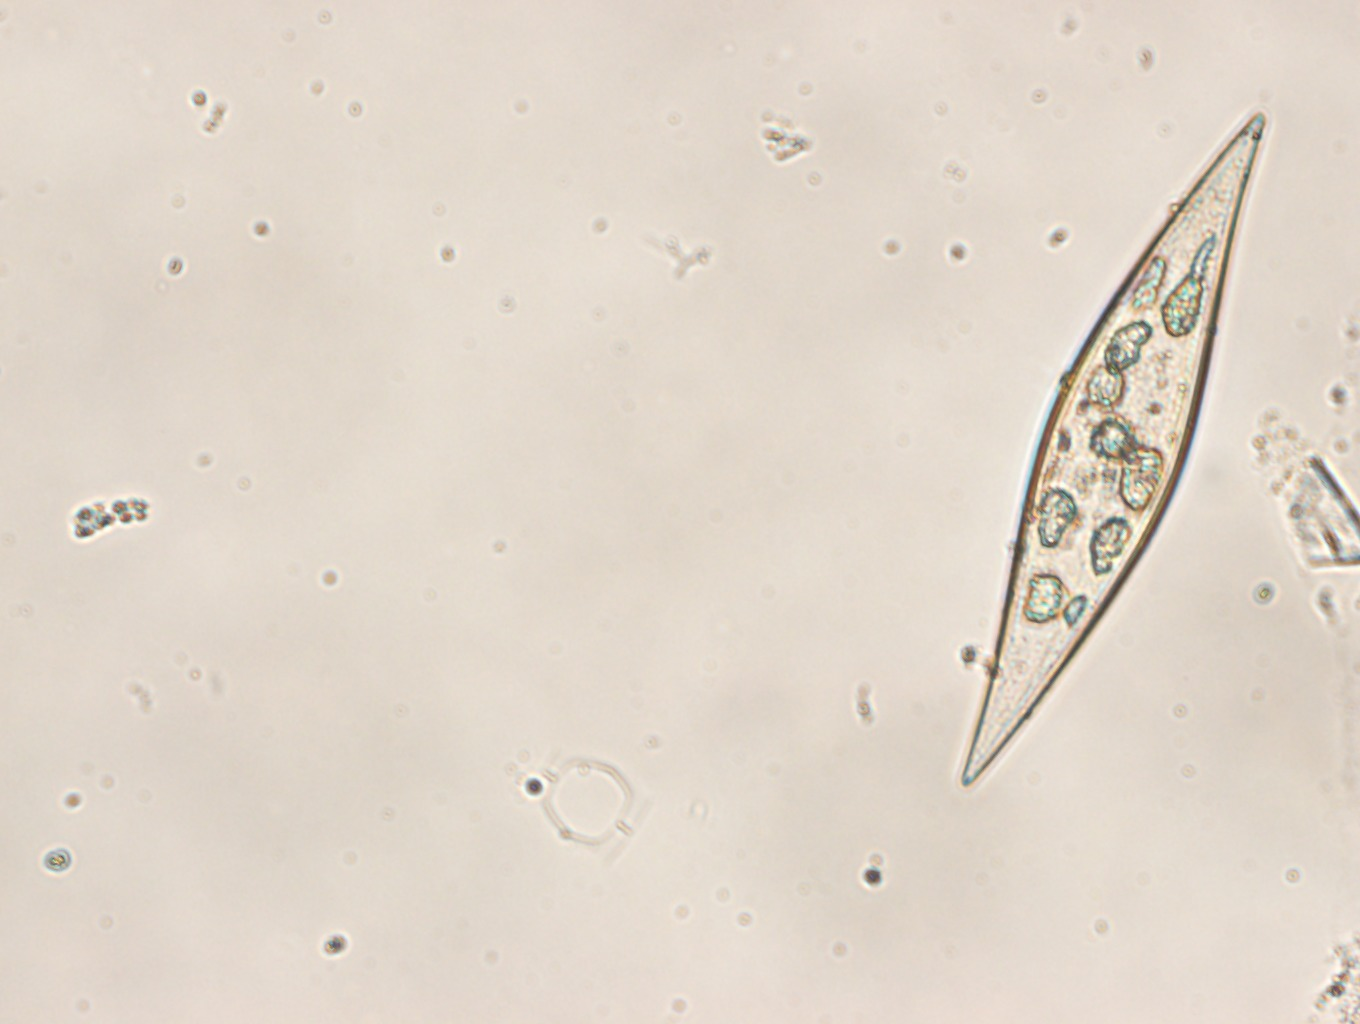pleurosigma pelagicum: (973, 116, 1268, 794)
